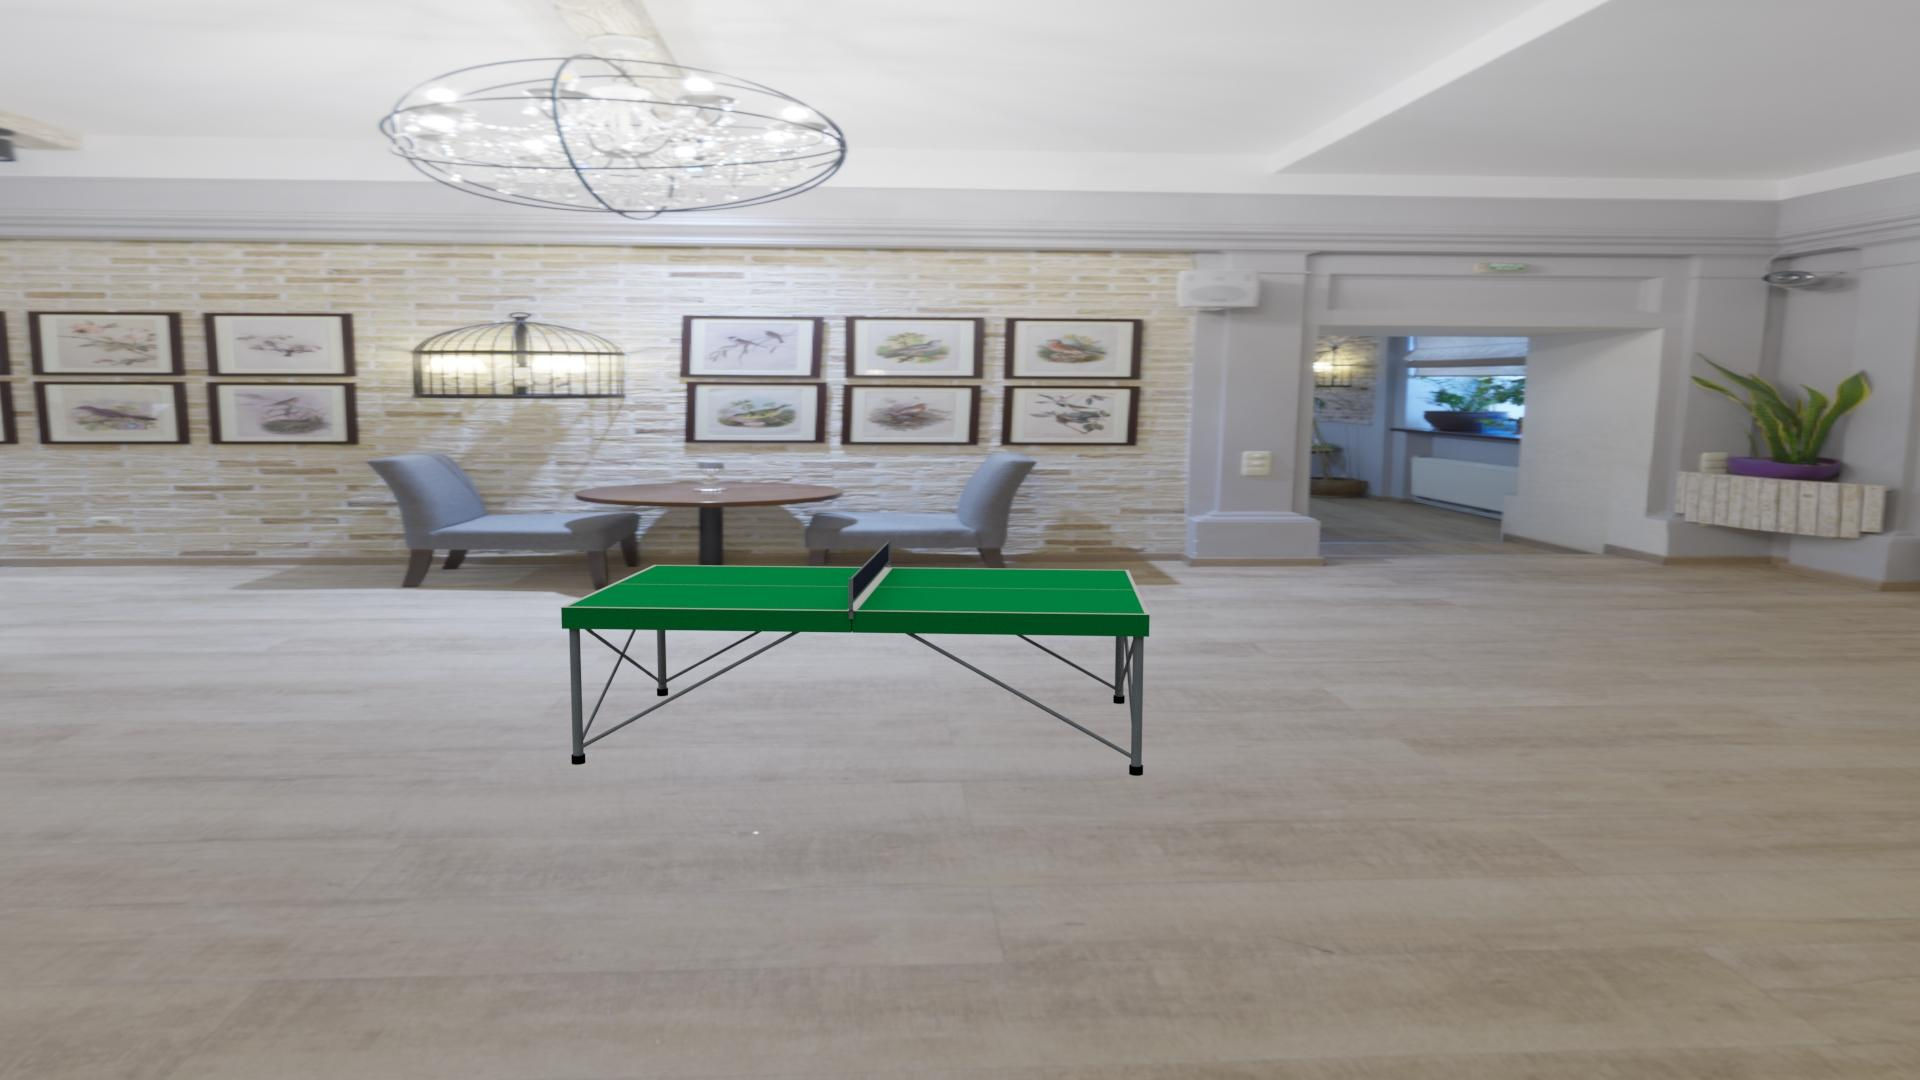table: (567, 566, 1145, 615)
